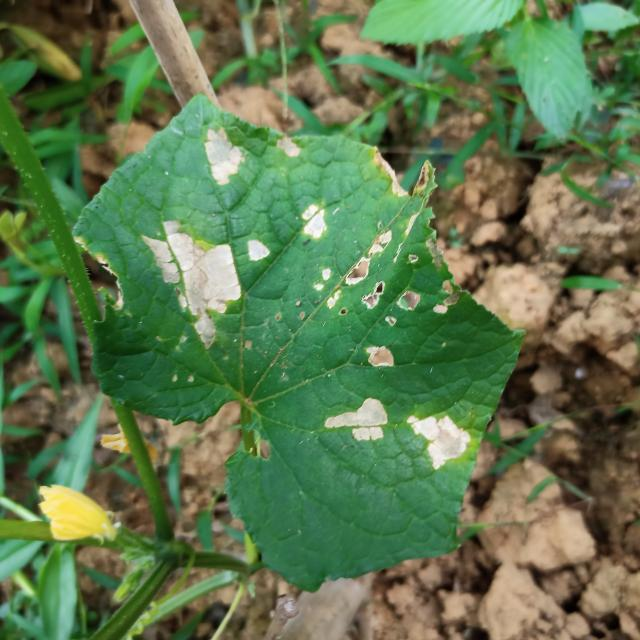disease_cucumber: (136, 124, 305, 362), (317, 330, 473, 483), (294, 179, 448, 327)
